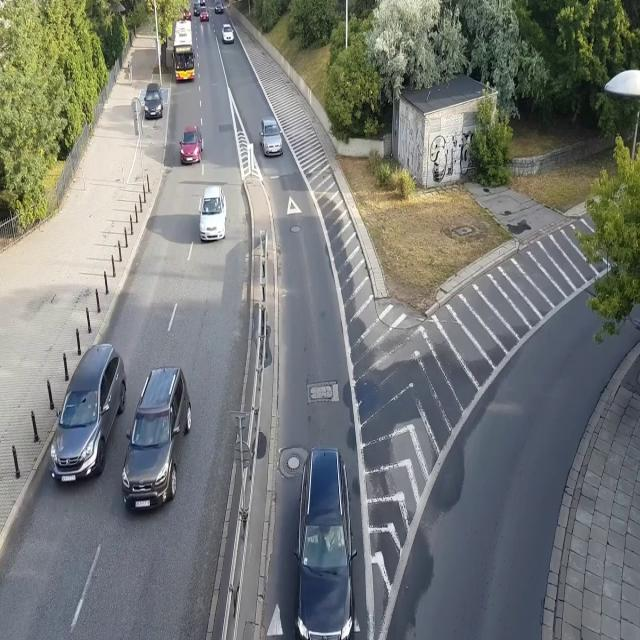bus: (171, 20, 195, 81)
car: (48, 340, 128, 497), (294, 447, 356, 640), (120, 364, 192, 512), (198, 182, 228, 242), (259, 114, 285, 160), (177, 124, 204, 164), (144, 82, 164, 121), (221, 23, 235, 45), (181, 4, 193, 20), (214, 2, 224, 15), (200, 7, 209, 20), (193, 2, 201, 16), (198, 0, 205, 6)
